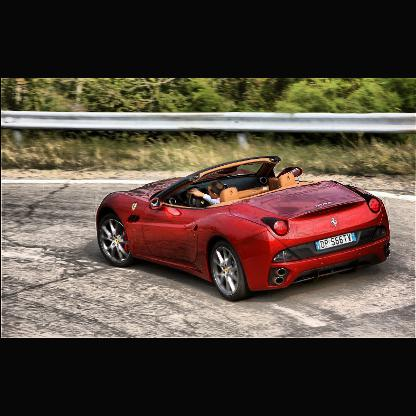Ferrari California Convertible 2012: (96, 156, 392, 303)
